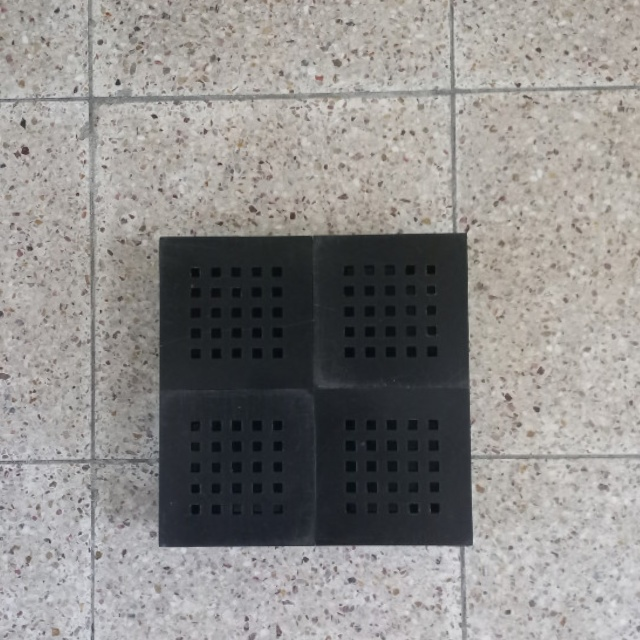pallet: (152, 234, 479, 550)
